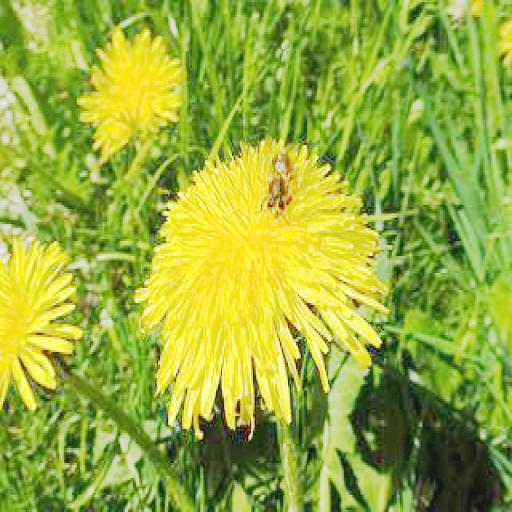dandelion: (141, 130, 381, 425), (78, 28, 182, 149)
